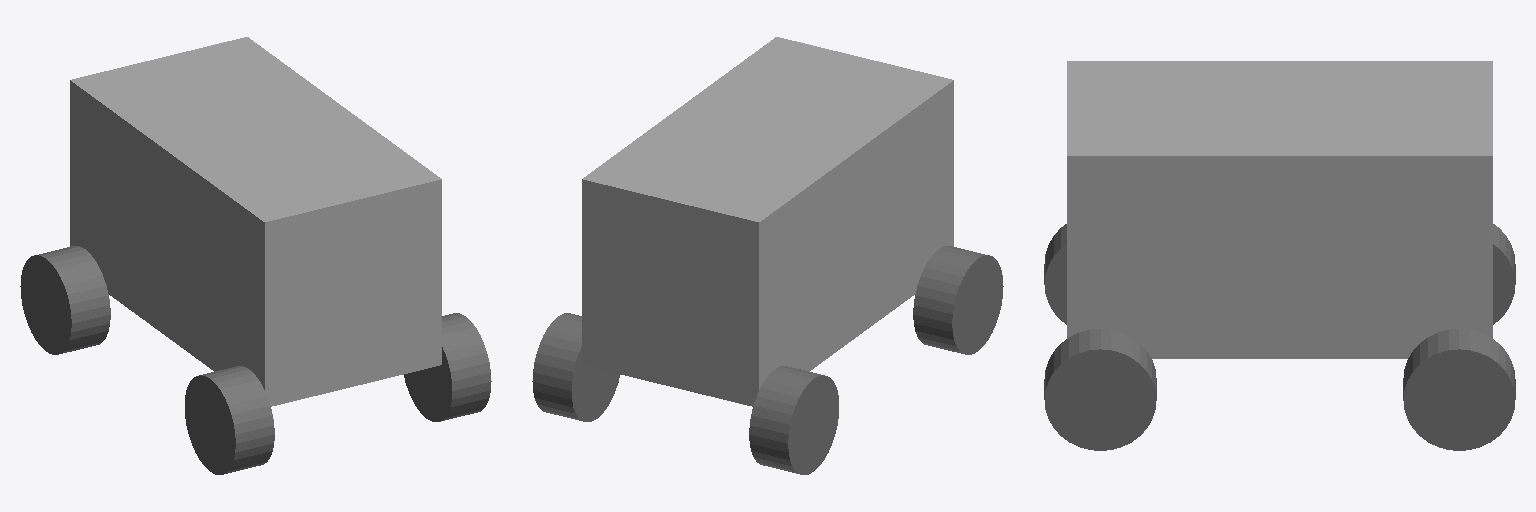
robot.urdf — my_robot:
<?xml version="1.0" ?>
<!-- =================================================================================== -->
<!-- |    This document was autogenerated by xacro from src/my_robot/urdf/my_robot.urdf.xacro | -->
<!-- |    EDITING THIS FILE BY HAND IS NOT RECOMMENDED                                 | -->
<!-- =================================================================================== -->
<robot name="my_robot">
  <link name="base_link">
    <inertial>
      <origin rpy="0 0 0" xyz="0 0 .3"/>
      <mass value="58.7"/>
      <inertia ixx="0.166667" ixy="0" ixz="0" iyy="0.166667" iyz="0" izz="0.166667"/>
    </inertial>
    <visual>
      <origin rpy="0 0 0" xyz="0 0 .3"/>
      <geometry>
        <box size="0.5 0.95 0.5"/>
      </geometry>
      <material name="gray">
        <color rgba="0.7 0.7 0.7 1"/>
      </material>
    </visual>
    <collision>
      <origin rpy="0 0 0" xyz="0 0 .3"/>
      <geometry>
        <box size="0.95 0.5 0.5"/>
      </geometry>
    </collision>
  </link>
  <link name="wheel_link_front_left">
    <inertial>
      <origin rpy="1.5708 0 0" xyz="0 0 0"/>
      <mass value="1.0"/>
      <inertia ixx="0.001" ixy="0" ixz="0" iyy="0.001" iyz="0" izz="0.001"/>
    </inertial>
    <visual>
      <origin rpy="1.5708 0 0" xyz="0 0 0"/>
      <geometry>
        <cylinder length="0.11" radius="0.125"/>
      </geometry>
      <material name="gray">
        <color rgba="0.5 0.5 0.5 1"/>
      </material>
    </visual>
    <collision>
      <origin rpy="1.5708 0 0" xyz="0 0 0"/>
      <geometry>
        <cylinder length="0.11" radius="0.125"/>
      </geometry>
    </collision>
  </link>
  <link name="wheel_link_front_right">
    <inertial>
      <origin rpy="1.5708 0 0" xyz="0 0 0"/>
      <mass value="1.0"/>
      <inertia ixx="0.001" ixy="0" ixz="0" iyy="0.001" iyz="0" izz="0.001"/>
    </inertial>
    <visual>
      <origin rpy="1.5708 0 0" xyz="0 0 0"/>
      <geometry>
        <cylinder length="0.11" radius="0.125"/>
      </geometry>
      <material name="gray">
        <color rgba="0.5 0.5 0.5 1"/>
      </material>
    </visual>
    <collision>
      <origin rpy="1.5708 0 0" xyz="0 0 0"/>
      <geometry>
        <cylinder length="0.11" radius="0.125"/>
      </geometry>
    </collision>
  </link>
  <link name="wheel_link_back_left">
    <inertial>
      <origin rpy="1.5708 0 0" xyz="0 0 0"/>
      <mass value="1.0"/>
      <inertia ixx="0.001" ixy="0" ixz="0" iyy="0.001" iyz="0" izz="0.001"/>
    </inertial>
    <visual>
      <origin rpy="1.5708 0 0" xyz="0 0 0"/>
      <geometry>
        <cylinder length="0.11" radius="0.125"/>
      </geometry>
      <material name="gray">
        <color rgba="0.5 0.5 0.5 1"/>
      </material>
    </visual>
    <collision>
      <origin rpy="1.5708 0 0" xyz="0 0 0"/>
      <geometry>
        <cylinder length="0.11" radius="0.125"/>
      </geometry>
    </collision>
  </link>
  <link name="wheel_link_back_right">
    <inertial>
      <origin rpy="1.5708 0 0" xyz="0 0 0"/>
      <mass value="1.0"/>
      <inertia ixx="0.001" ixy="0" ixz="0" iyy="0.001" iyz="0" izz="0.001"/>
    </inertial>
    <visual>
      <origin rpy="1.5708 0 0" xyz="0 0 0"/>
      <geometry>
        <cylinder length="0.11" radius="0.125"/>
      </geometry>
      <material name="gray">
        <color rgba="0.5 0.5 0.5 1"/>
      </material>
    </visual>
    <collision>
      <origin rpy="1.5708 0 0" xyz="0 0 0"/>
      <geometry>
        <cylinder length="0.11" radius="0.125"/>
      </geometry>
    </collision>
  </link>
  <!-- Joint connecting front left wheel to the main body -->
  <joint name="wheel_joint_front_left" type="continuous">
    <parent link="base_link"/>
    <child link="wheel_link_front_left"/>
    <origin rpy="0 0 1.5708" xyz="0.305 .4 0"/>
    <axis xyz="0 1 0"/>
    <limit effort="10" velocity="5.0"/>
  </joint>
  <joint name="wheel_joint_front_right" type="continuous">
    <parent link="base_link"/>
    <child link="wheel_link_front_right"/>
    <origin rpy="0 0 1.5708" xyz="-0.305 .4 0"/>
    <axis xyz="0 1 0"/>
    <limit effort="10" velocity="5.0"/>
  </joint>
  <joint name="wheel_joint_back_left" type="continuous">
    <parent link="base_link"/>
    <child link="wheel_link_back_left"/>
    <origin rpy="0 0 1.5708" xyz="0.305 -.4 0"/>
    <axis xyz="0 1 0"/>
    <limit effort="10" velocity="5.0"/>
  </joint>
  <joint name="wheel_joint_back_right" type="continuous">
    <parent link="base_link"/>
    <child link="wheel_link_back_right"/>
    <origin rpy="0 0 1.5708" xyz="-0.305 -.4 0"/>
    <axis xyz="0 1 0"/>
    <limit effort="10" velocity="5.0"/>
  </joint>
  <!-- Transmission for wheel_joint_back_right -->
  <transmission name="front_left_wheel_transmission">
    <type>transmission_interface/SimpleTransmission</type>
    <joint name="wheel_joint_front_left">
      <hardwareInterface>hardware_interface/VelocityJointInterface</hardwareInterface>
    </joint>
  </transmission>
  <transmission name="front_right_wheel_transmission">
    <type>transmission_interface/SimpleTransmission</type>
    <joint name="wheel_joint_front_right">
      <hardwareInterface>hardware_interface/VelocityJointInterface</hardwareInterface>
    </joint>
  </transmission>
  <transmission name="back_left_wheel_transmission">
    <type>transmission_interface/SimpleTransmission</type>
    <joint name="wheel_joint_back_left">
      <hardwareInterface>hardware_interface/VelocityJointInterface</hardwareInterface>
    </joint>
  </transmission>
  <transmission name="back_right_wheel_transmission">
    <type>transmission_interface/SimpleTransmission</type>
    <joint name="wheel_joint_back_right">
      <hardwareInterface>hardware_interface/VelocityJointInterface</hardwareInterface>
    </joint>
  </transmission>
</robot>

--- Facts derived from the render (not from the file) ---
Views: 3 orthographic renders of the robot side by side, from view 1: azimuth 30°, elevation 25°; view 2: azimuth 150°, elevation 25°; view 3: azimuth 270°, elevation 25°.
Model my_robot with 5 links and 4 joints (4 continuous), rooted at base_link, posed all joints at 0.
Links seen in each view (by area): view 1: base_link, wheel_link_back_right, wheel_link_front_right, wheel_link_back_left; view 2: base_link, wheel_link_front_right, wheel_link_back_right, wheel_link_front_left; view 3: base_link, wheel_link_front_left, wheel_link_back_left, wheel_link_front_right, wheel_link_back_right.
Link boxes in pixels (x1,y1,x2,y2): base_link: (70,37,441,406); wheel_link_back_right: (185,366,274,474); wheel_link_front_right: (20,246,110,354); wheel_link_back_left: (404,313,491,421); base_link: (582,37,953,406); wheel_link_front_right: (749,366,838,474); wheel_link_back_right: (913,246,1003,354); wheel_link_front_left: (532,313,619,421); base_link: (1067,61,1492,358); wheel_link_front_left: (1403,329,1515,450); wheel_link_back_left: (1044,329,1156,450); wheel_link_front_right: (1493,224,1515,324); wheel_link_back_right: (1044,224,1066,324).
Size in the robot's own frame: 0.72 by 1.05 by 0.675 metres.
Geometry: primitives only (box / cylinder / sphere), no mesh files.